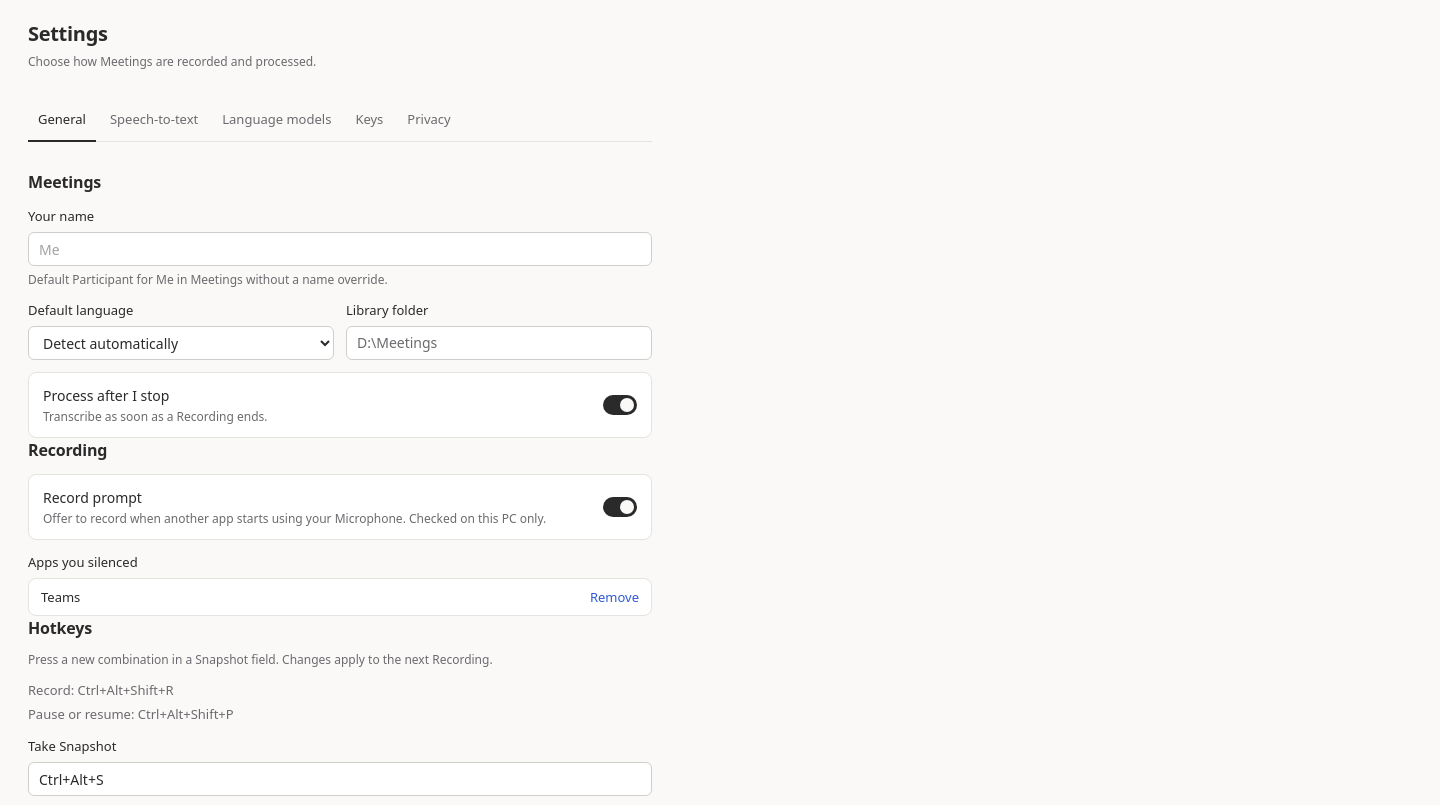
turns the Record prompt off and removes a silenced app
This screenshot has width=1440, height=805.
What coordinates should you click on to do the following:
click the switch named "Record prompt" in the row of "Record prompt"
I would click on:
 (620, 507)
Its box is [603,497,637,517].
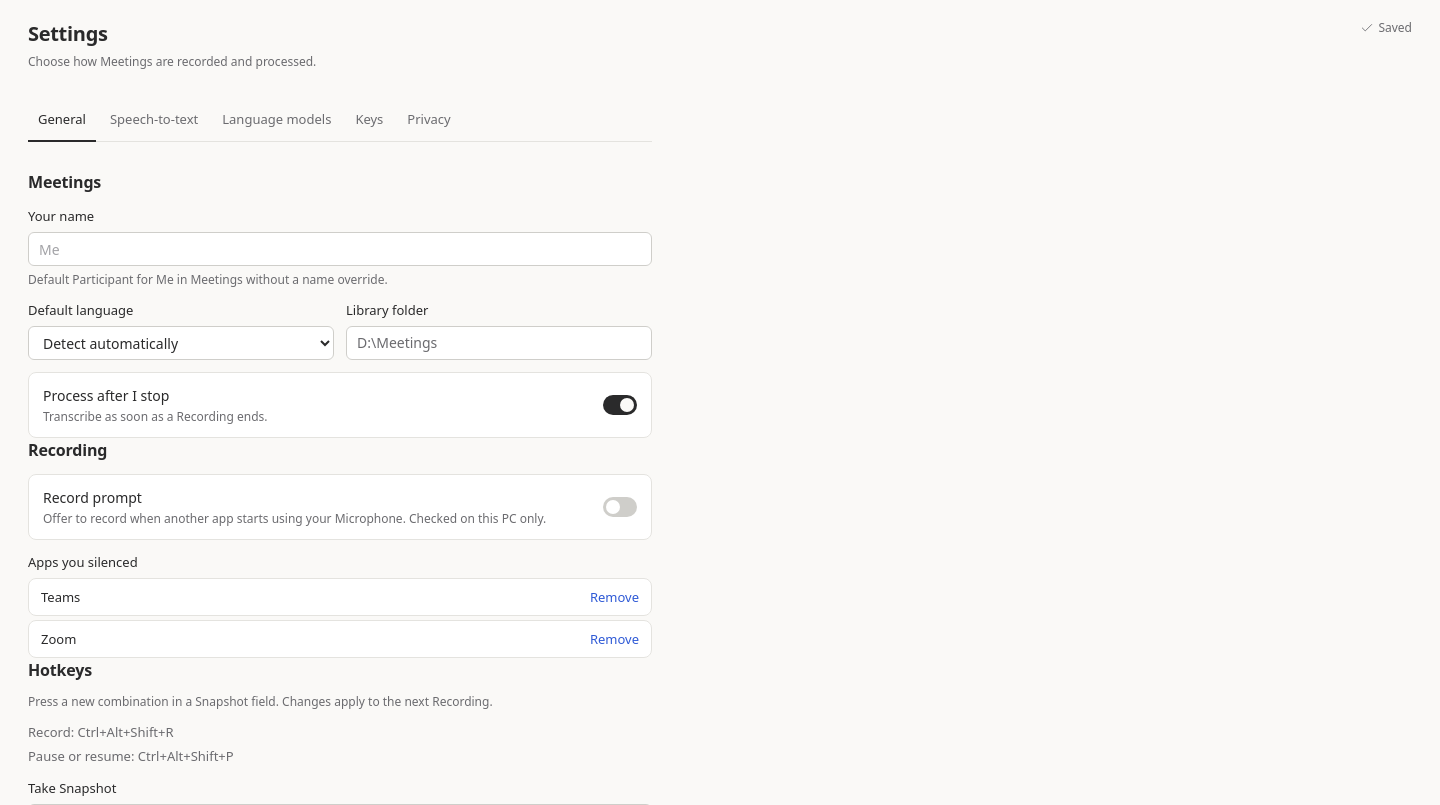
Expected: the text "Teams" is shown, [41,587,80,607]
Expected: the text "Zoom" is shown, [41,629,76,649]
What coordinates should you click on to do the following:
click the button with aria-label "Remove Teams"
I would click on:
 (614, 597)
Its box is [590,587,639,607].
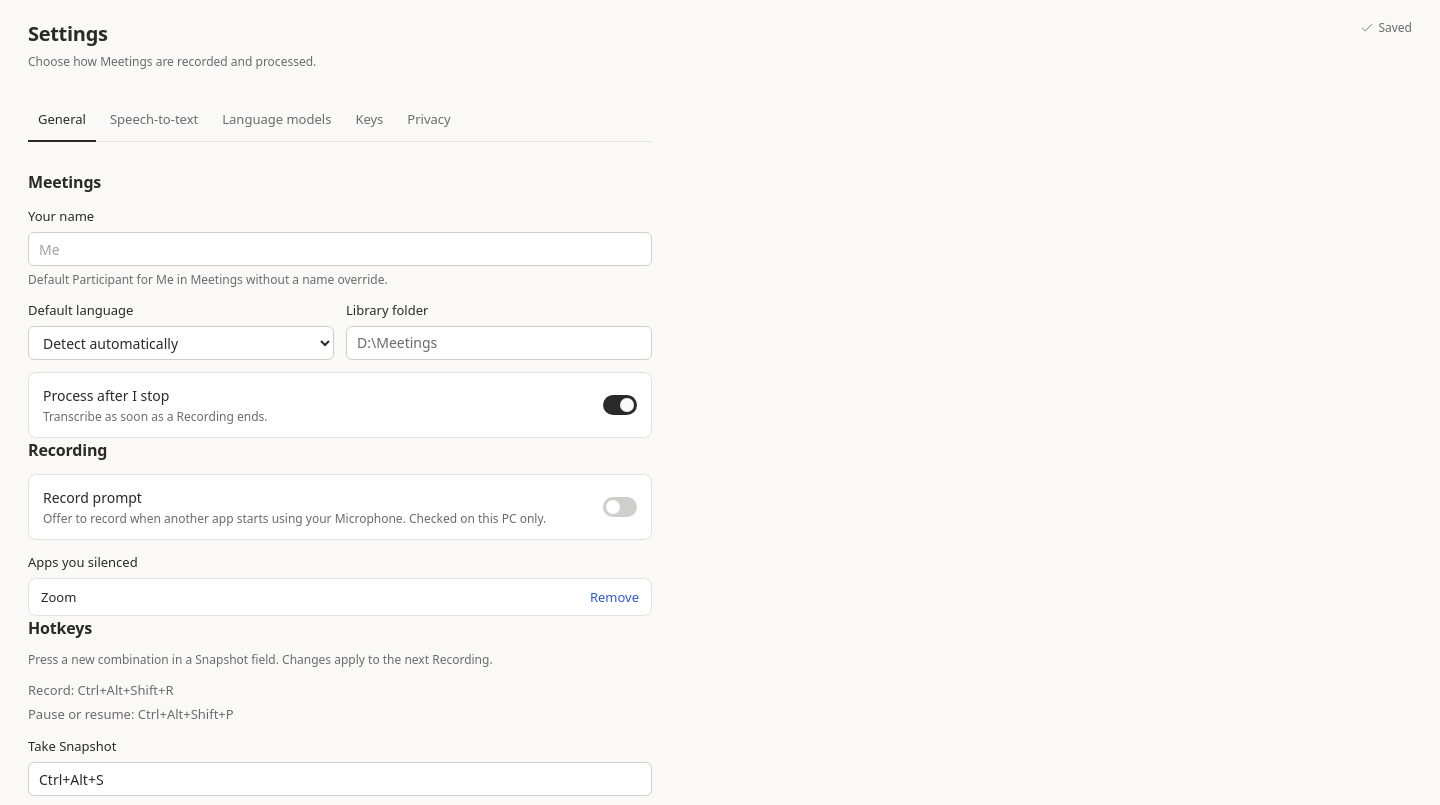
Expected: the text "Zoom" is shown, [41,587,76,607]
Expected: the text "Teams" is gone
